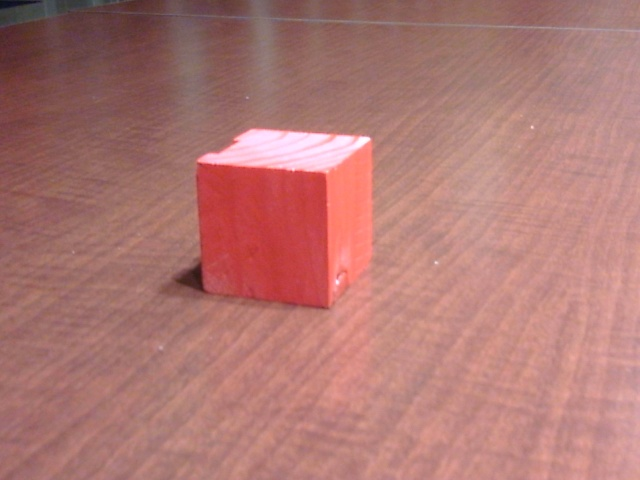RedBlock: (195, 158, 362, 307)
